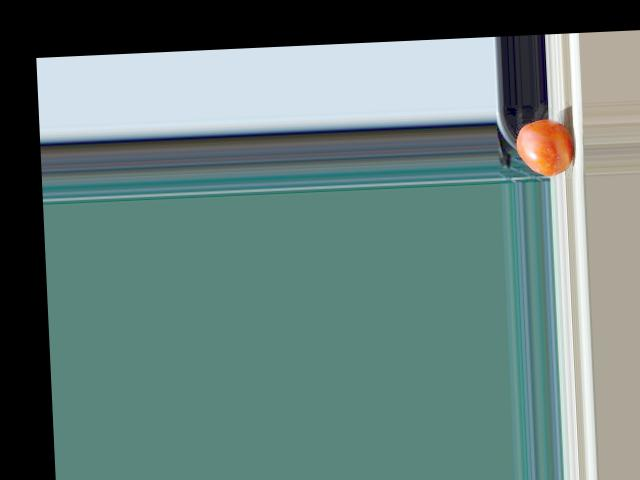tomato: (515, 118, 573, 177)
